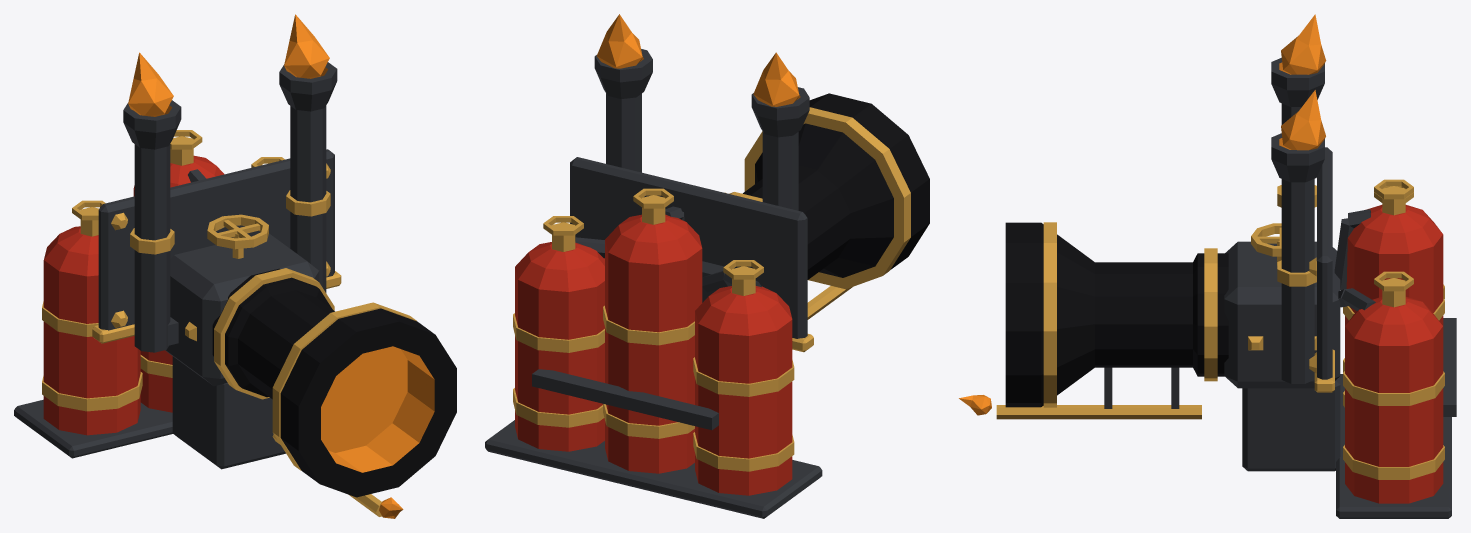
The model's file is FlameA1.obj.
3 views of the same model, side by side, from view 1: azimuth 30°, elevation 25°; view 2: azimuth 150°, elevation 25°; view 3: azimuth 270°, elevation 25° (orthographic).
Visible parts, largest first — view 1: FlameA1; view 2: FlameA1; view 3: FlameA1.
Boxes of the visible parts, x1,y1,x2,y2 form: FlameA1: [14, 14, 456, 518]; FlameA1: [485, 14, 929, 518]; FlameA1: [959, 14, 1456, 518].
Size of the model in its own units: 0.864 by 1.19 by 1.34.
